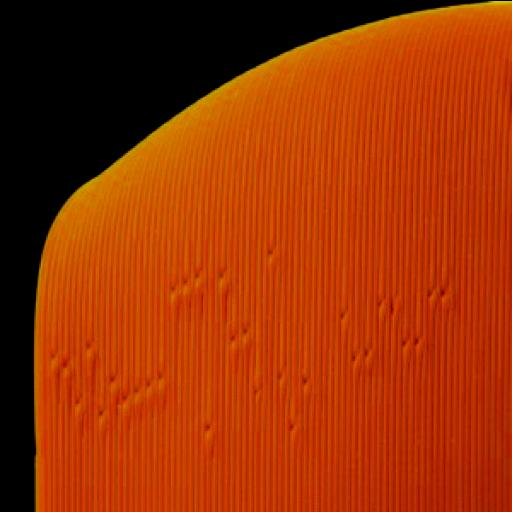cracks: (322, 252, 458, 384), (46, 319, 168, 442), (194, 362, 315, 450), (158, 238, 290, 316)
